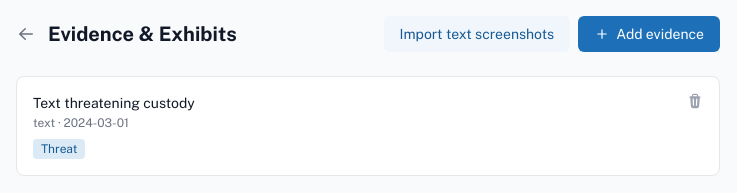
it: Evidence deletion › clicking the trash icon asks for confirmation instead of deleting
Expected: the text "Text threatening custody" is shown, left=33, top=95, right=195, bottom=111
Click the button named "remove evidence" at x=695, y=101, box left=687, top=93, right=703, bottom=109
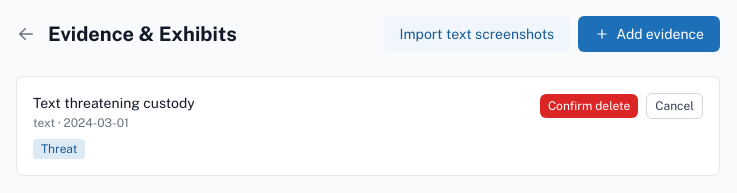
Expected: the button "Confirm delete" is shown, left=540, top=94, right=638, bottom=118
Expected: the button "Cancel" is shown, left=646, top=93, right=703, bottom=119
